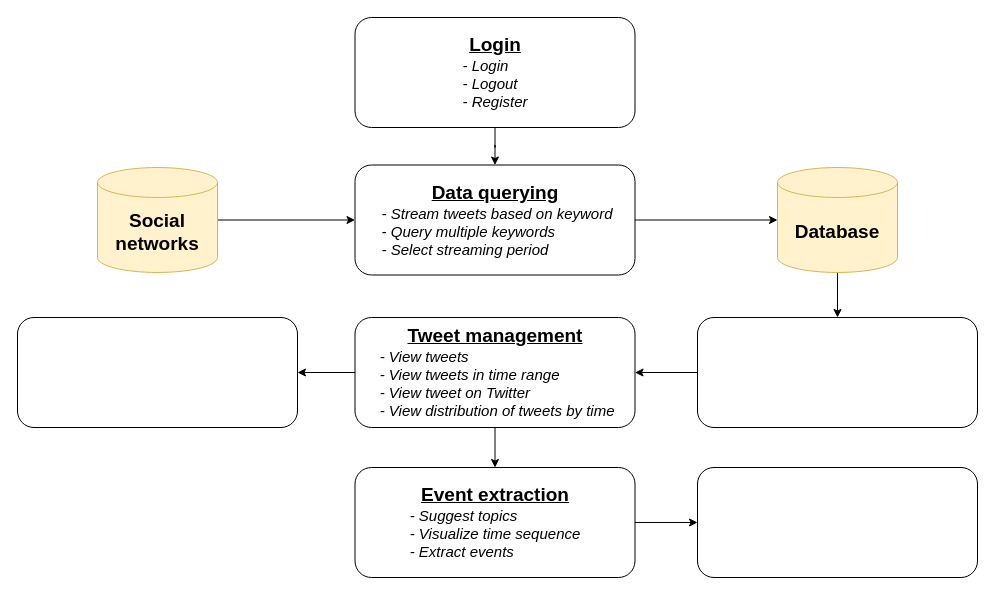
The diagram is 995 pixels wide and 595 high, and some of its shapes have lost their labels. The shapes that lost their labels are listed below. From the top down, each one's centre as x and y in pixels, then its label:
[157,372]: Tweet analyzing - Analyze wordcloud - Analyze n-grams - Extract knowledge graph
[837,372]: Keyword management - Show streaming keywords - Delete keywords
[837,522]: Knowledge graph extraction - Extract knowledge graph - Enrich knowledge graph
